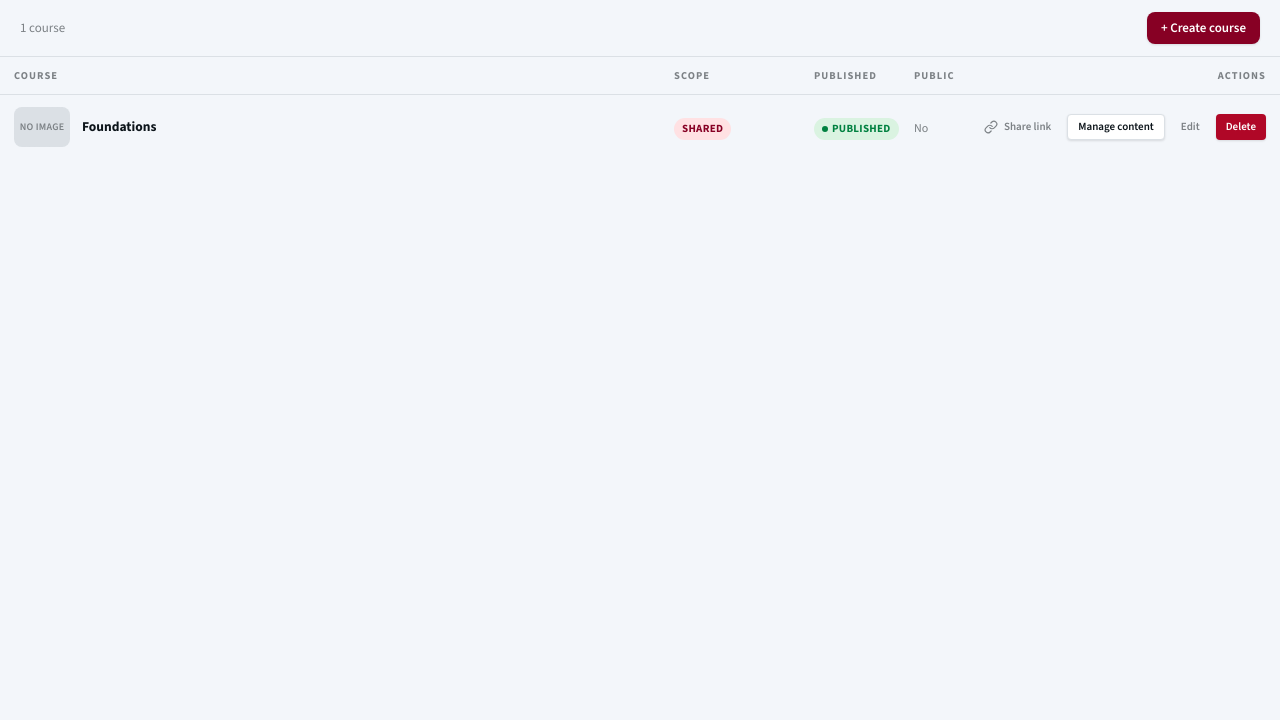
AdminCourseManager › reenables course creation when the request rejects
Click the button "+ Create course" at (1203, 28), box [1147,12,1260,44]
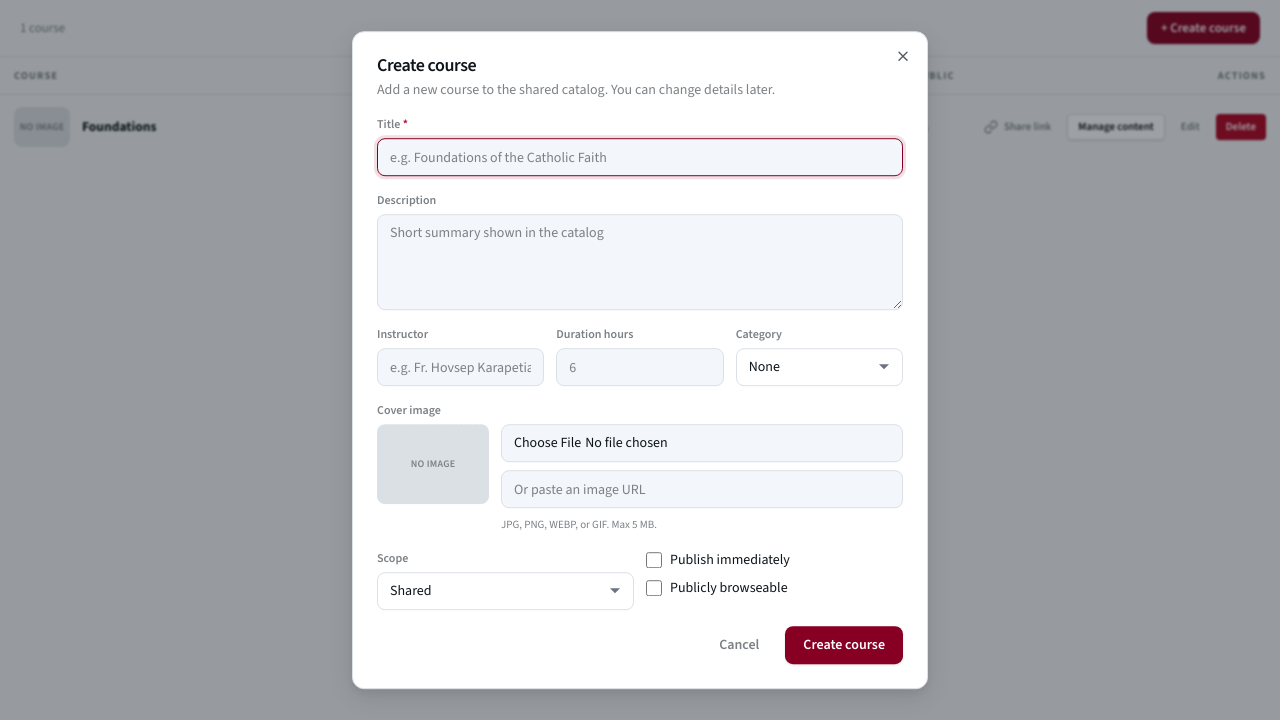
Type "New course" into the field labelled "Title *" at (640, 157), box [377,138,903,176]
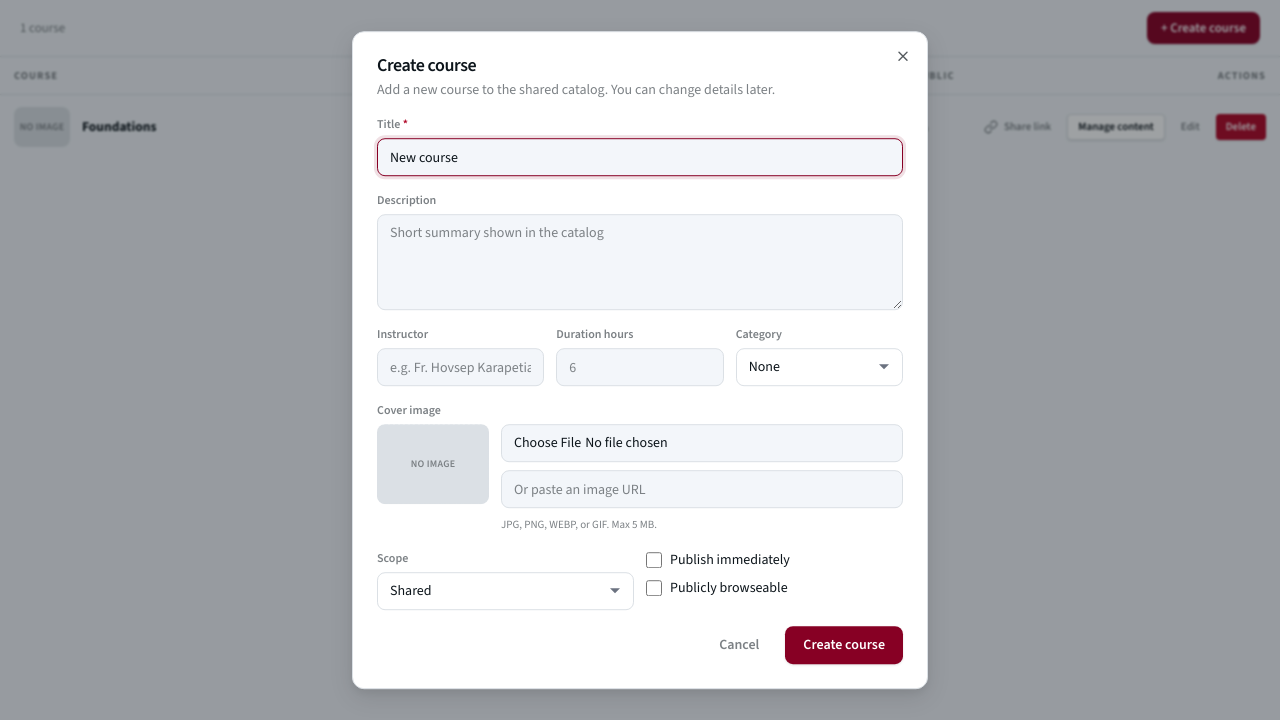
Click the button "Create course" at (844, 645), box [785,626,903,664]
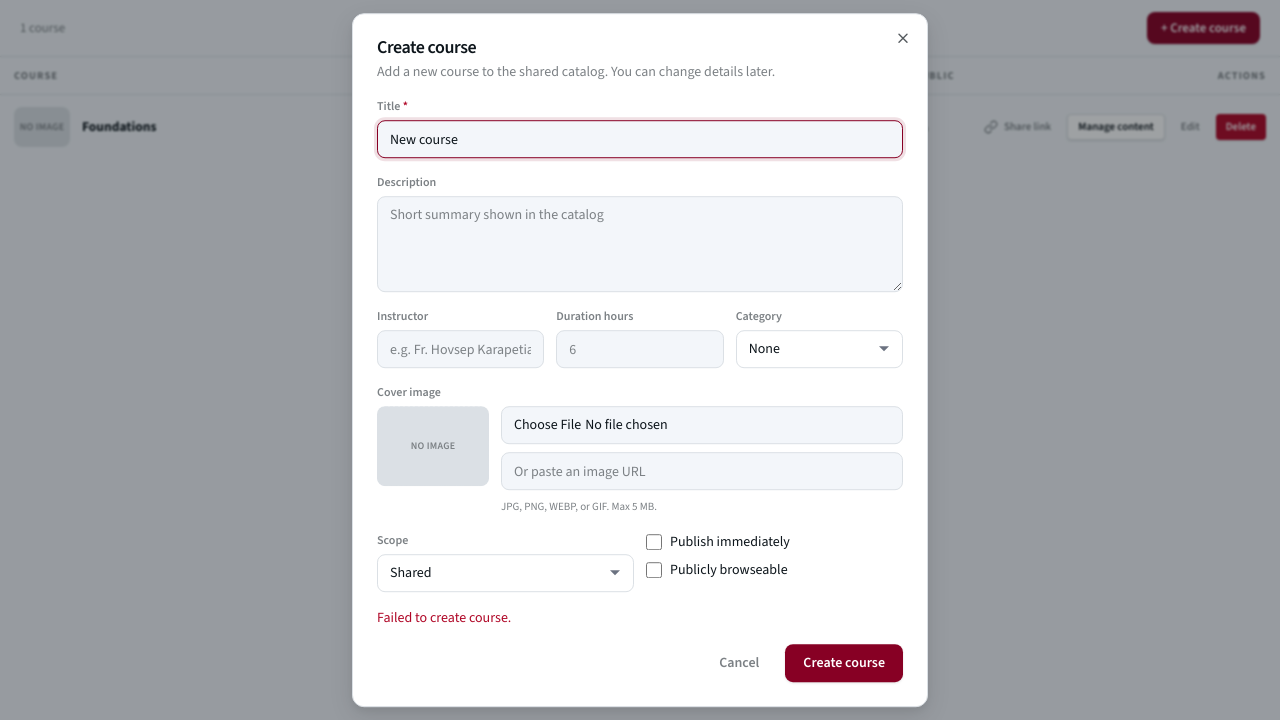
Check: the button "Create course" is enabled, box [785,644,903,682]
Check: the text "Failed to create course." is shown, box [377,608,511,627]
